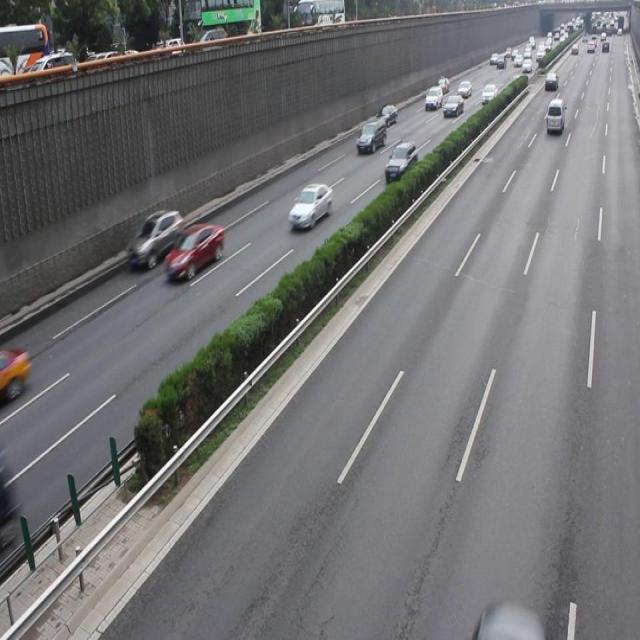car: (126, 209, 184, 269), (164, 222, 224, 278), (287, 181, 331, 230), (383, 142, 418, 183)
